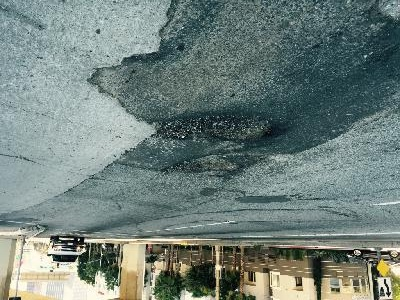pothole: (149, 109, 277, 144), (156, 153, 241, 176)
